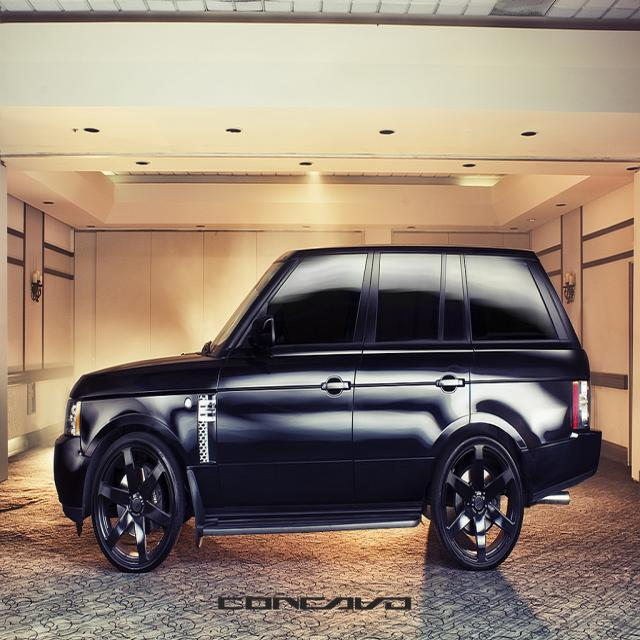car: (50, 242, 602, 569)
